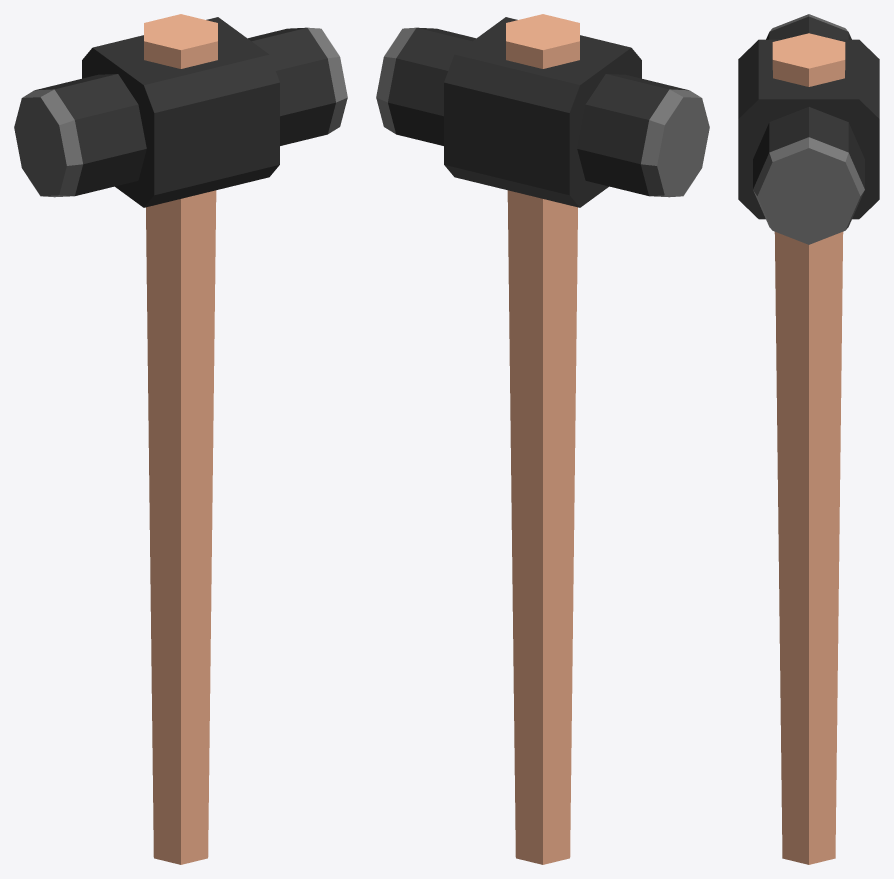
File: hammer.fbx
The picture shows the model from 3 angles, left to right: view 1: azimuth 30°, elevation 25°; view 2: azimuth 150°, elevation 25°; view 3: azimuth 270°, elevation 25°; orthographic projection. The views are drawn at different scales.
Parts seen in each view (by area): view 1: hammer; view 2: hammer; view 3: hammer.
Boxes of the visible parts, x1=… form: hammer: x1=14, y1=14, x2=347, y2=864; hammer: x1=376, y1=14, x2=709, y2=864; hammer: x1=738, y1=14, x2=879, y2=864.
Bounding box in the file's own units: 0.341 × 0.9507 × 0.1521.
1 material, 1 textured.
